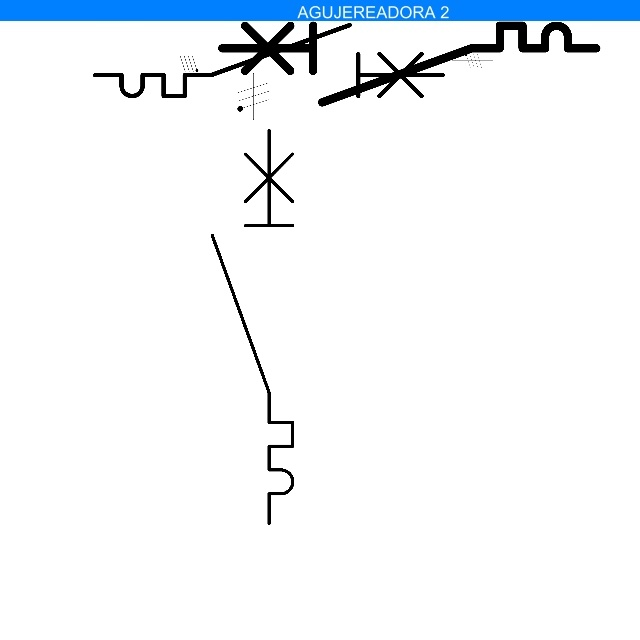interruptor_termomagnetico: (202, 119, 303, 533), (212, 16, 606, 112), (86, 16, 452, 105)
